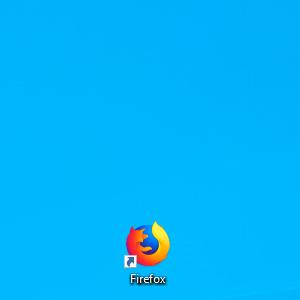firefox: (124, 220, 170, 267)
